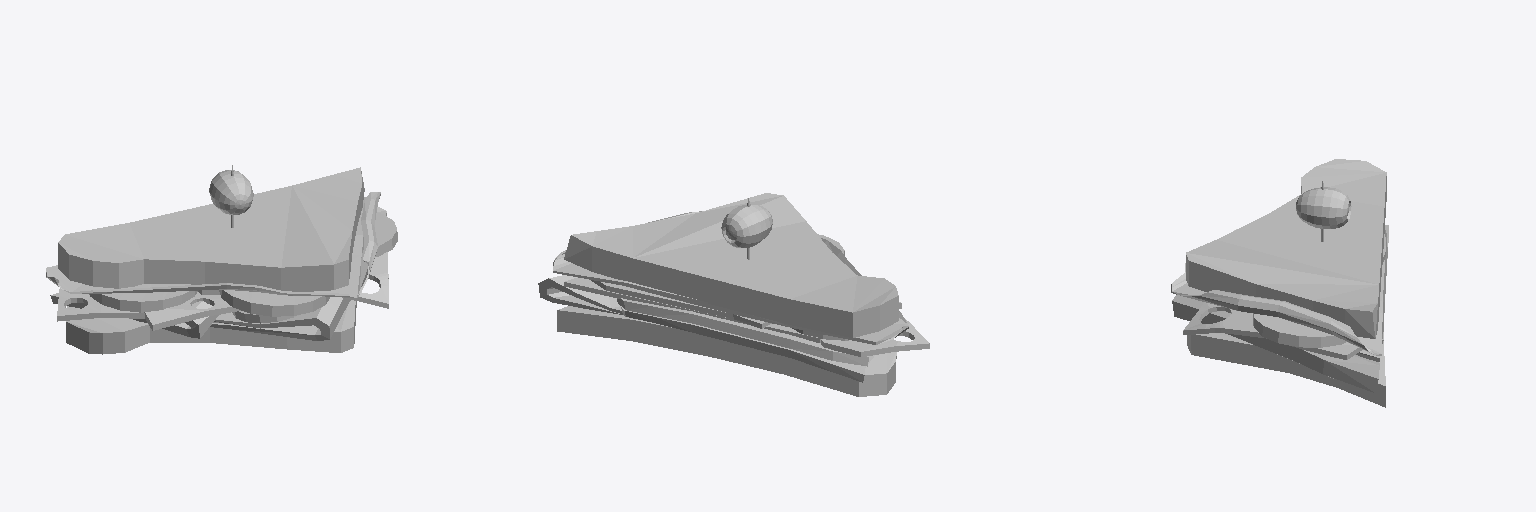
Rendered from sandvich2.obj.
3 views of the same model, side by side, from view 1: azimuth 30°, elevation 25°; view 2: azimuth 150°, elevation 25°; view 3: azimuth 270°, elevation 25° (orthographic).
Size of the model in its own units: 4.41 by 1.77 by 2.31.